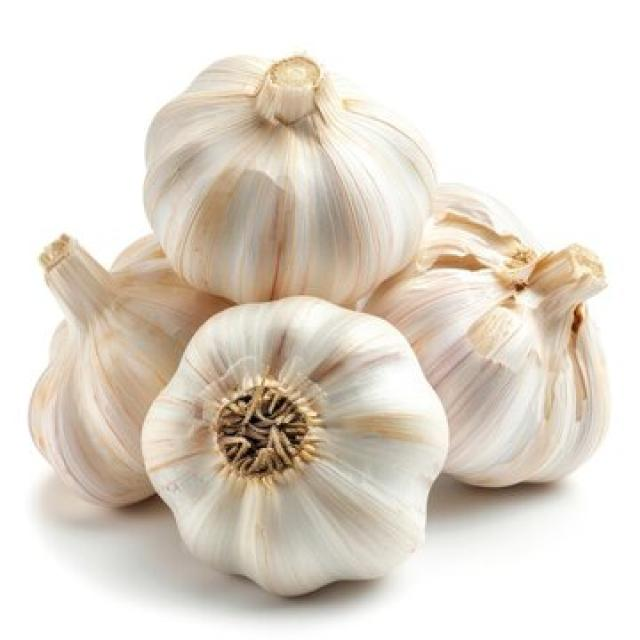Garlic: (138, 294, 450, 598), (359, 181, 610, 489), (140, 51, 438, 308), (28, 222, 236, 500)
